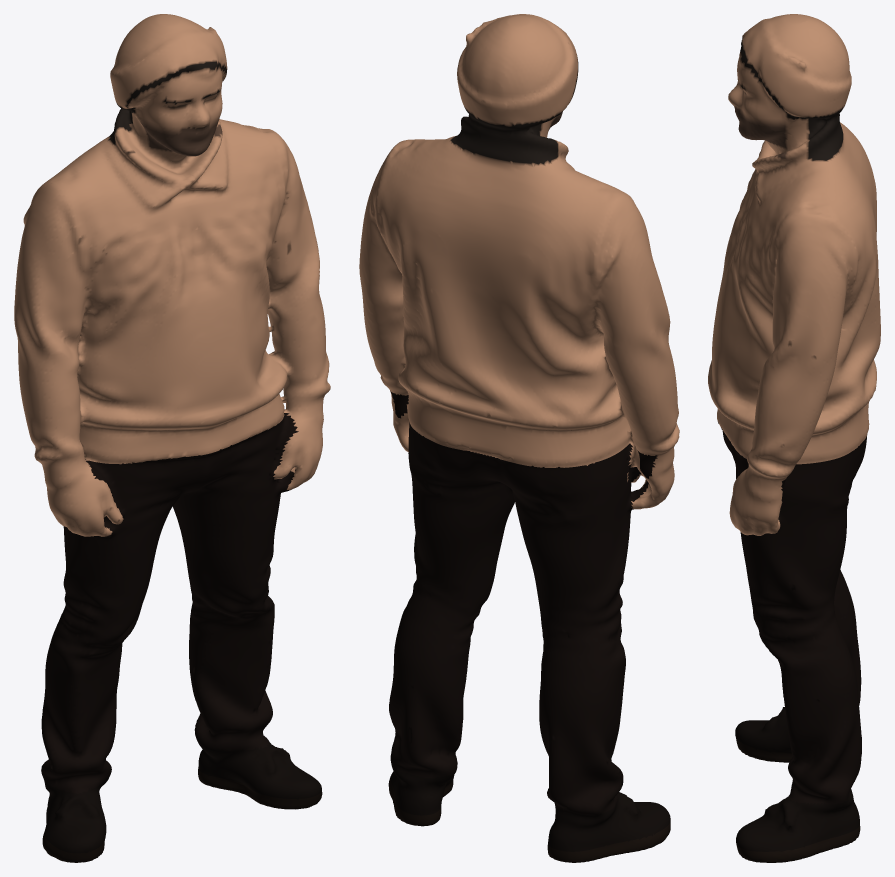
The model's file is 3d_ido_model_colored.glb.
The picture shows the model from 3 angles, left to right: view 1: azimuth 30°, elevation 25°; view 2: azimuth 150°, elevation 25°; view 3: azimuth 270°, elevation 25°; orthographic projection. The views are drawn at different scales.
Visible parts, largest first — view 1: Character; view 2: Character; view 3: Character.
Boxes of the visible parts, x1=… form: Character: x1=14, y1=14, x2=330, y2=862; Character: x1=359, y1=14, x2=679, y2=862; Character: x1=708, y1=14, x2=880, y2=862.
Bounding box in the file's own units: 0.7621 × 1.97 × 0.394.
